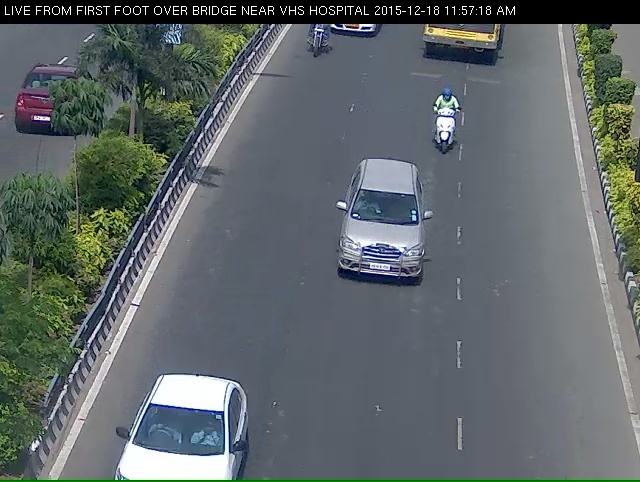Bus: (417, 17, 506, 71)
Car: (341, 176, 423, 308), (114, 405, 243, 476)
Person: (433, 94, 456, 161), (298, 20, 333, 62)
